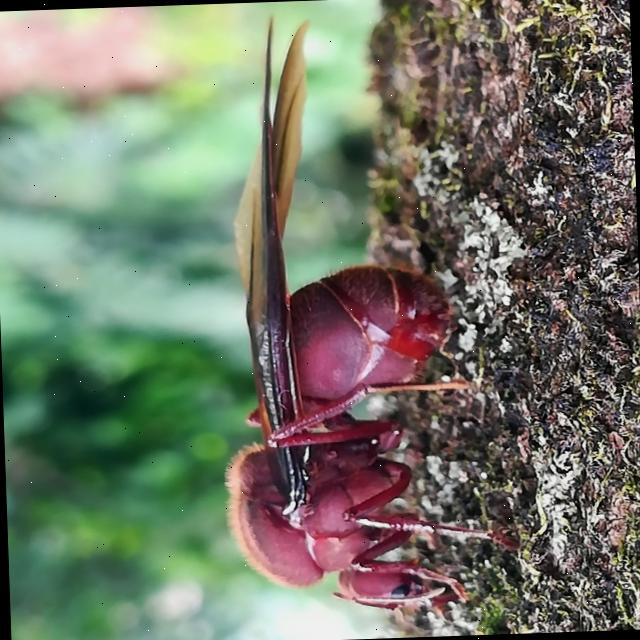Alive-Female-Alate: (208, 5, 527, 640)
